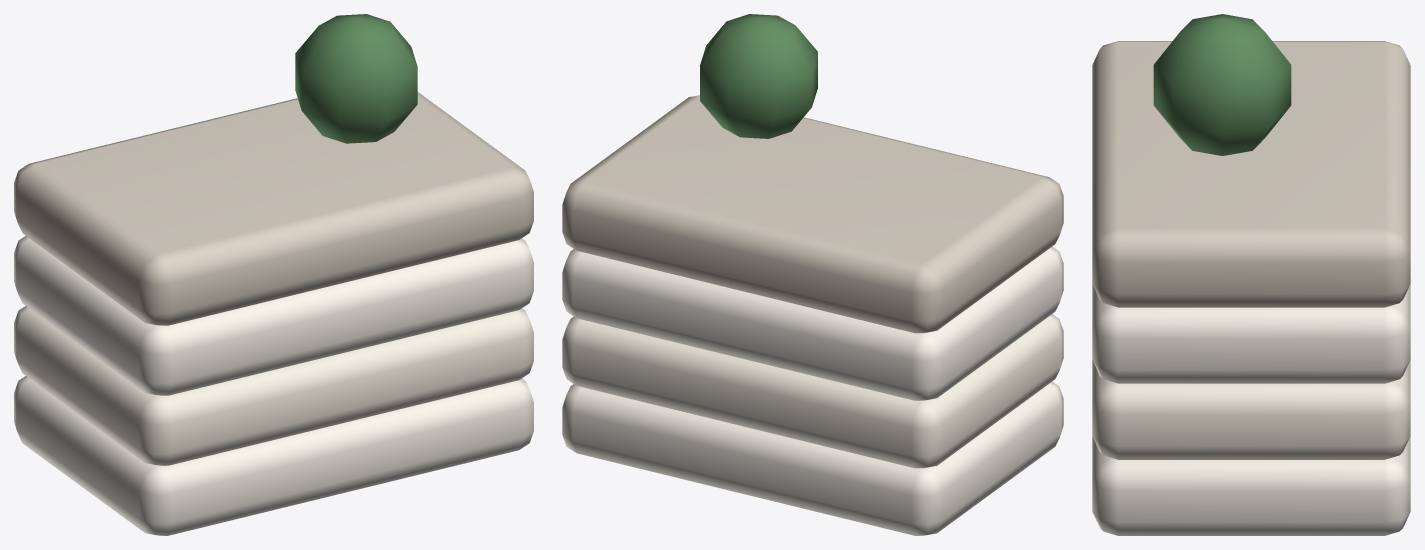
The model's file is towel_stack.glb.
3 views of the same model, side by side, from view 1: azimuth 30°, elevation 25°; view 2: azimuth 150°, elevation 25°; view 3: azimuth 270°, elevation 25° (orthographic). The views are drawn at different scales.
Parts seen in each view (by area): view 1: towel_stack; view 2: towel_stack; view 3: towel_stack.
Part boxes in pixels (x1=…): towel_stack: x1=14, y1=14, x2=533, y2=535; towel_stack: x1=562, y1=14, x2=1063, y2=535; towel_stack: x1=1092, y1=14, x2=1410, y2=535.
Size of the model in its own units: 0.34 by 0.35 by 0.22.
